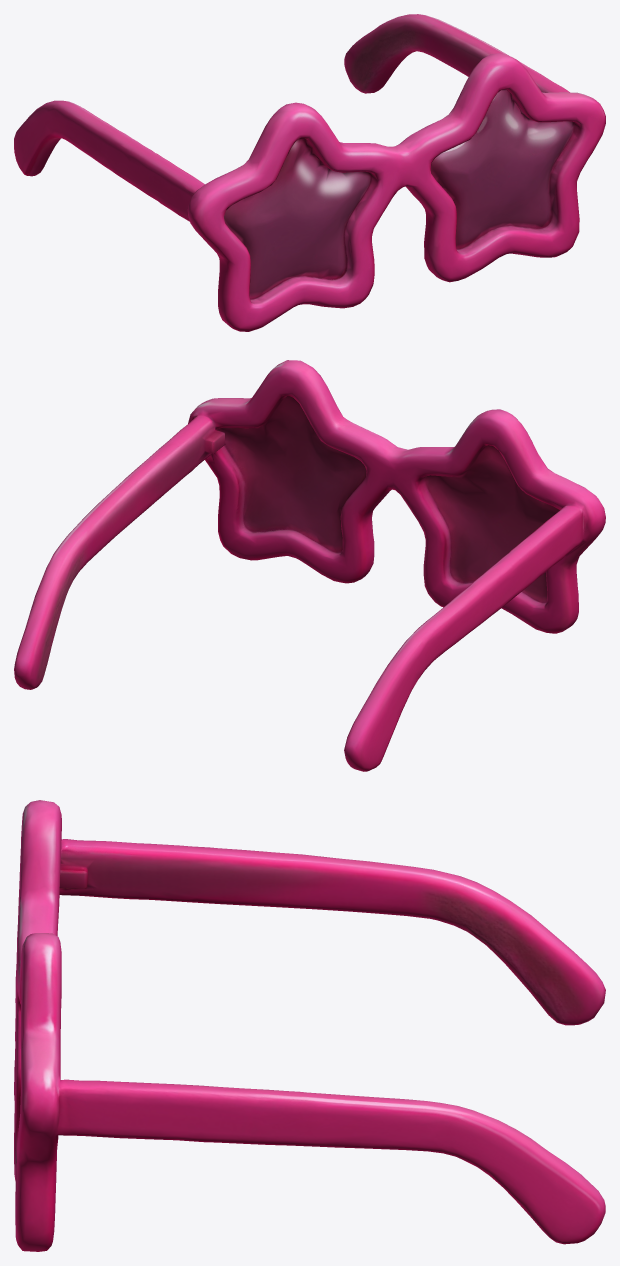
Rendered from cs-rock-shades.glb.
3 renders of one model, top to bottom at view 1: azimuth 30°, elevation 25°; view 2: azimuth 150°, elevation 25°; view 3: azimuth 270°, elevation 25°, orthographic. The views are drawn at different scales.
Parts seen in each view (by area): view 1: tripo_node_8fbf144c-8273-4716-a676-2ade41868697; view 2: tripo_node_8fbf144c-8273-4716-a676-2ade41868697; view 3: tripo_node_8fbf144c-8273-4716-a676-2ade41868697.
Boxes of the visible parts, x1=… form: tripo_node_8fbf144c-8273-4716-a676-2ade41868697: x1=14, y1=14, x2=605, y2=331; tripo_node_8fbf144c-8273-4716-a676-2ade41868697: x1=14, y1=360, x2=605, y2=771; tripo_node_8fbf144c-8273-4716-a676-2ade41868697: x1=14, y1=800, x2=605, y2=1251.
Bounding box in the file's own units: 1 × 0.4848 × 0.9347.
1 material, 1 textured.
